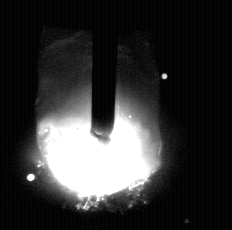arame: (92, 0, 116, 143)
poca: (37, 0, 163, 230)
